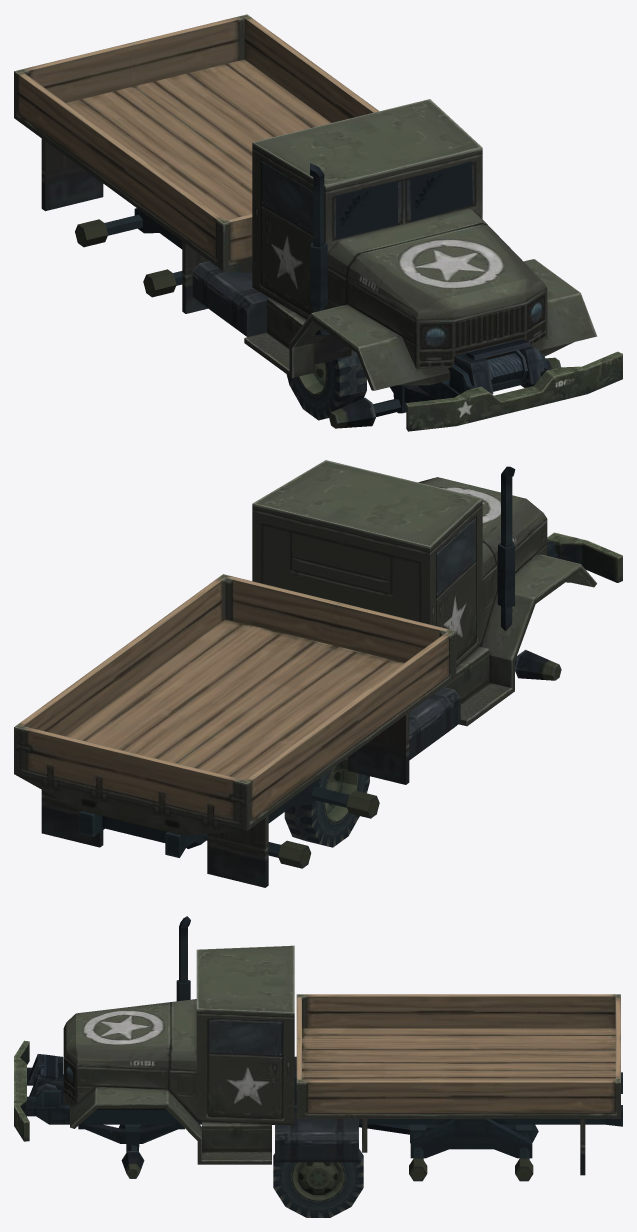
Rendered from junche.fbx.
The picture shows the model from 3 angles, top to bottom: view 1: azimuth 30°, elevation 25°; view 2: azimuth 150°, elevation 25°; view 3: azimuth 270°, elevation 25°; orthographic projection. The views are drawn at different scales.
Parts seen in each view (by area): view 1: polySurface18, polySurface17; view 2: polySurface18, polySurface17; view 3: polySurface18, polySurface17.
Part boxes in pixels (box(x1,y1,x2,y2)): polySurface18: box(14, 14, 622, 431); polySurface17: box(286, 350, 366, 420); polySurface18: box(14, 460, 622, 887); polySurface17: box(284, 758, 369, 847); polySurface18: box(14, 916, 622, 1181); polySurface17: box(273, 1149, 363, 1217).
Size of the model in its own units: 298 by 408 by 870.
2 materials, 2 textured.
